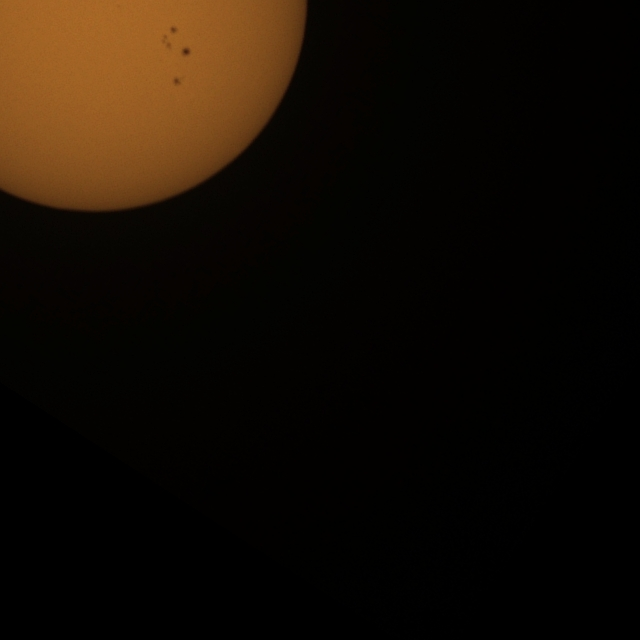sunspot: (162, 30, 193, 60), (161, 26, 179, 52), (172, 76, 183, 87), (181, 46, 191, 58)
